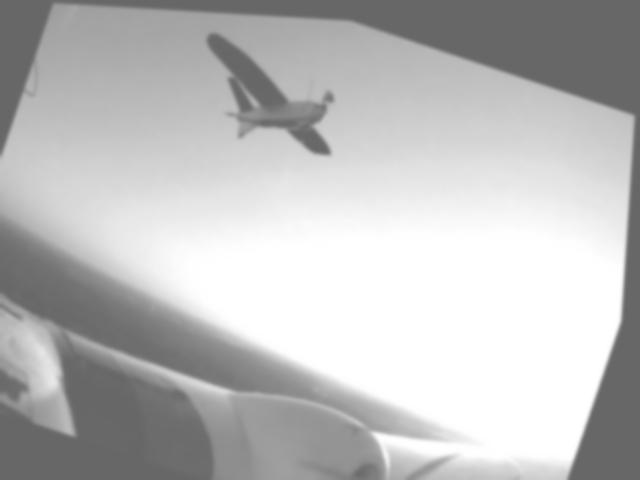hedef: (168, 8, 369, 178)
